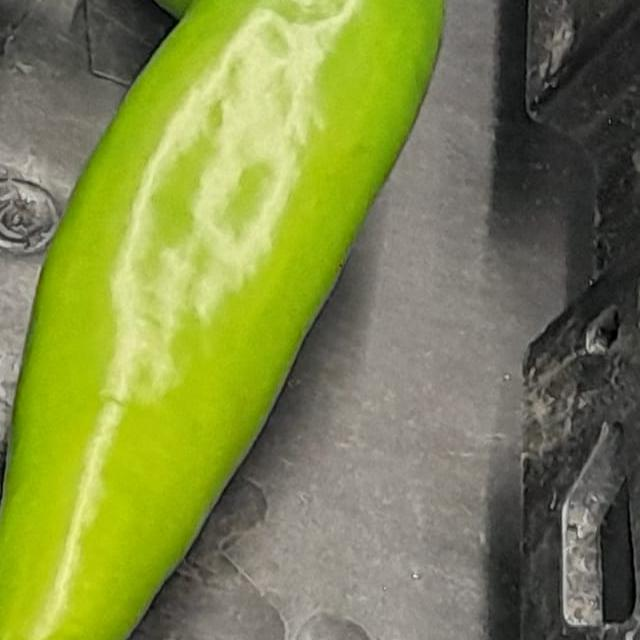chili_pepper: (0, 0, 542, 640), (0, 0, 275, 640)
